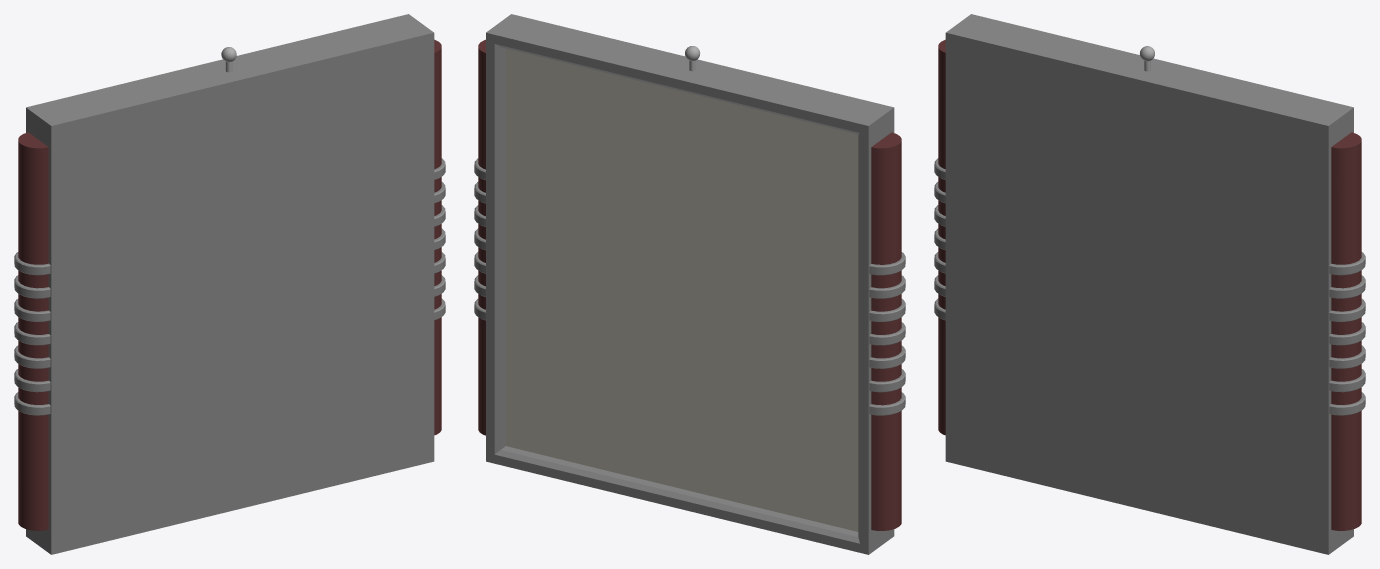
File: SM_Clock_001.fbx
The picture shows the model from 3 angles, left to right: view 1: azimuth 30°, elevation 25°; view 2: azimuth 150°, elevation 25°; view 3: azimuth 330°, elevation 25°; orthographic projection.
Parts seen in each view (by area): view 1: pSphere2; view 2: pSphere2; view 3: pSphere2.
Boxes of the visible parts, x1,y1,x2,y2 form: pSphere2: [14, 14, 445, 554]; pSphere2: [474, 14, 905, 554]; pSphere2: [934, 14, 1365, 554].
Size of the model in its own units: 50.88 by 51.75 by 5.29.
